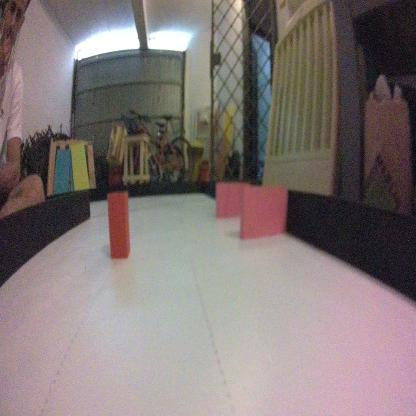magenta: (238, 185, 287, 245), (214, 178, 251, 220)
red: (106, 190, 131, 261)
